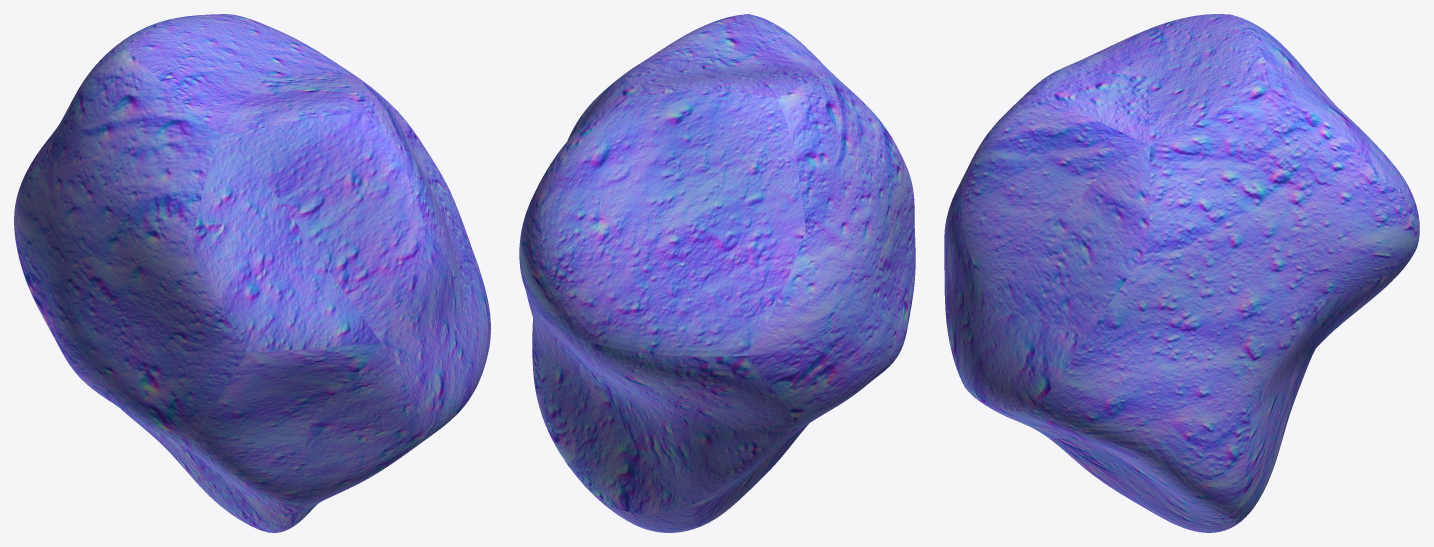
Rendered from mediumasteroid6_LOD0.fbx.
The picture shows the model from 3 angles, left to right: view 1: azimuth 30°, elevation 25°; view 2: azimuth 150°, elevation 25°; view 3: azimuth 270°, elevation 25°; orthographic projection. The views are drawn at different scales.
Parts seen in each view (by area): view 1: Icosphere; view 2: Icosphere; view 3: Icosphere.
Boxes of the visible parts, <box> form: Icosphere: <box>14,14,490,532</box>; Icosphere: <box>519,14,915,532</box>; Icosphere: <box>944,14,1419,532</box>.
Size of the model in its own units: 235 by 300 by 282.
